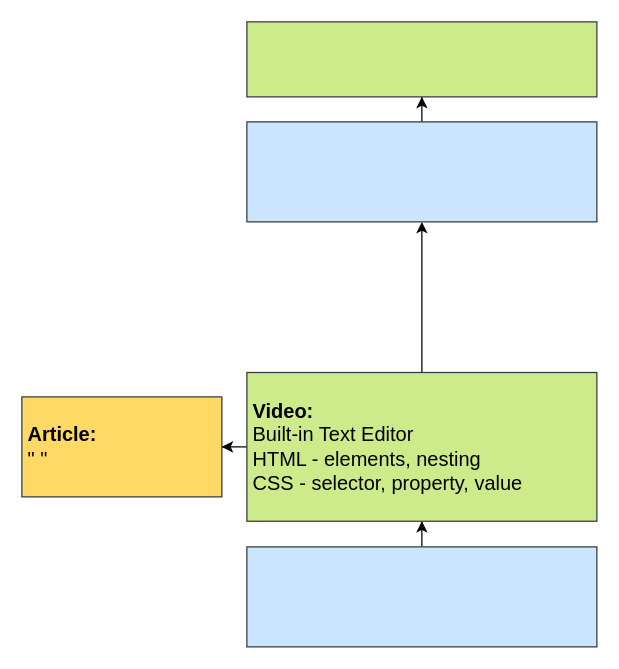
Image size: 619x669. Some labels were removed from this diagram. Here are the shapes that lost their labels. From the top down, the box of each, then its label:
(246, 121, 597, 222): First Real Tool A Programmer's Text Editor
(246, 546, 597, 647): Markup & Style Introduction
